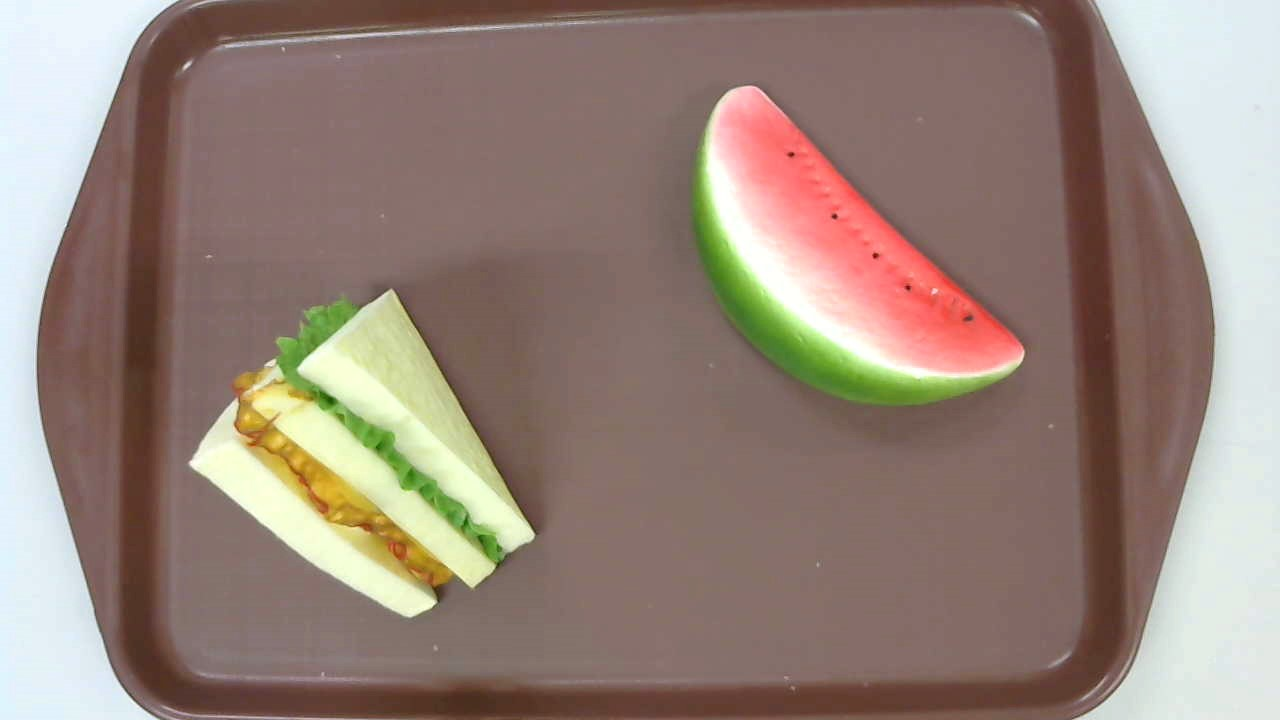sandwich: (187, 287, 537, 618)
water melon: (692, 84, 1026, 406)
